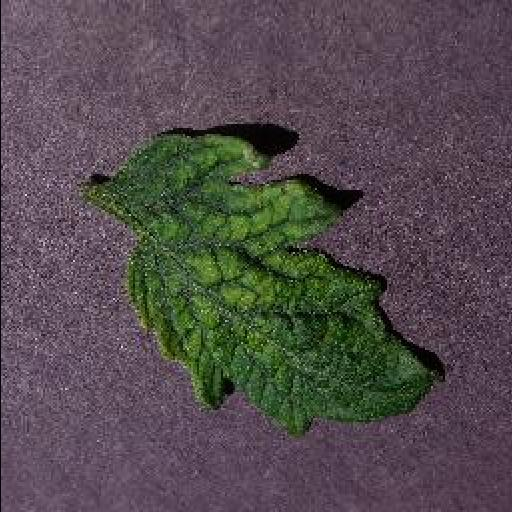Mosaic Virus: (114, 126, 440, 438)
